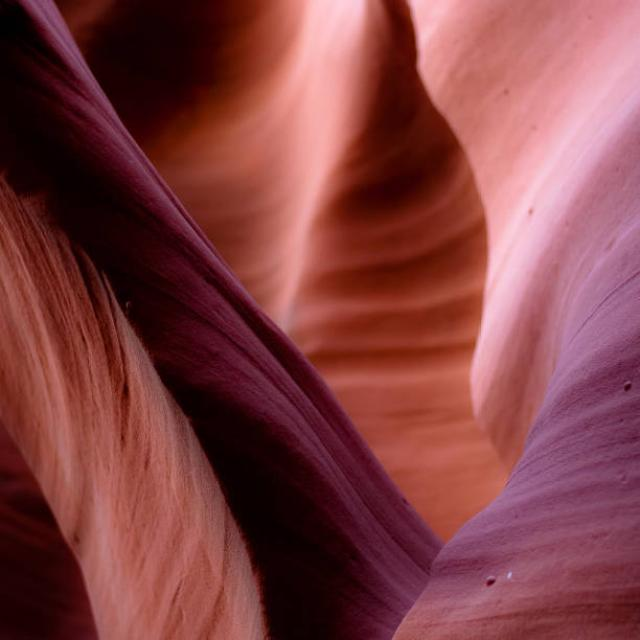Sedimentary: (1, 1, 640, 639)
